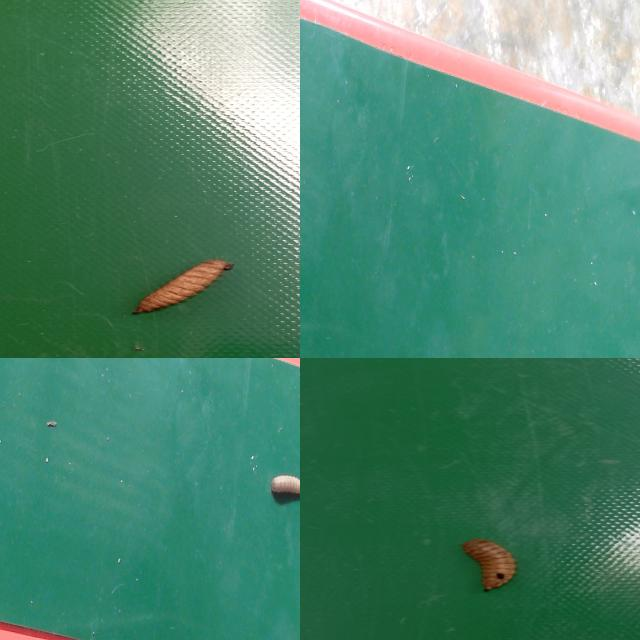Maggot: (135, 260, 232, 316), (462, 539, 517, 592), (270, 473, 300, 507)
